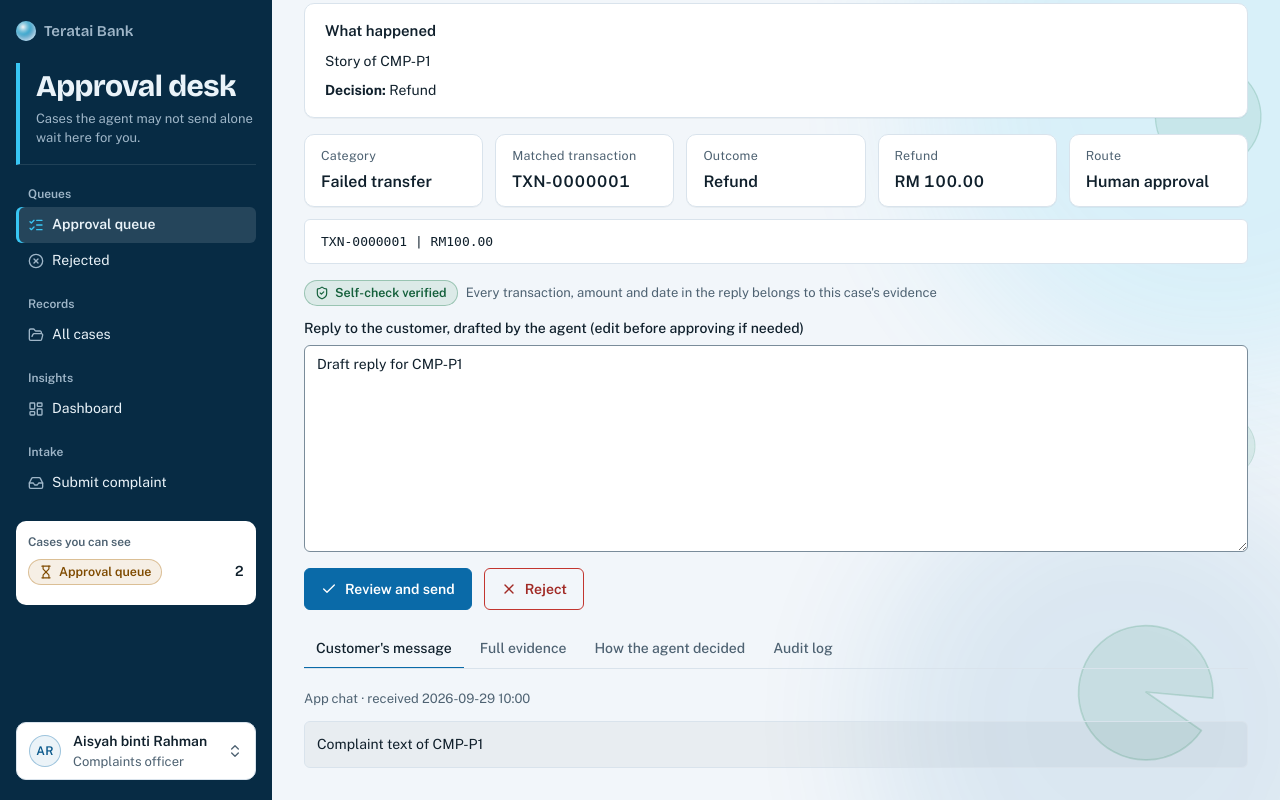
Test: approval queue › says the reply is edited instead of showing the draft's self-check
The image size is (1280, 800).
(page scrolled)
Expected: the text "Self-check verified" is shown, [304,280,458,306]
Type " Edited." into the text box labelled "Reply to the customer" at coordinates (776, 448), box [304,345,1248,552]
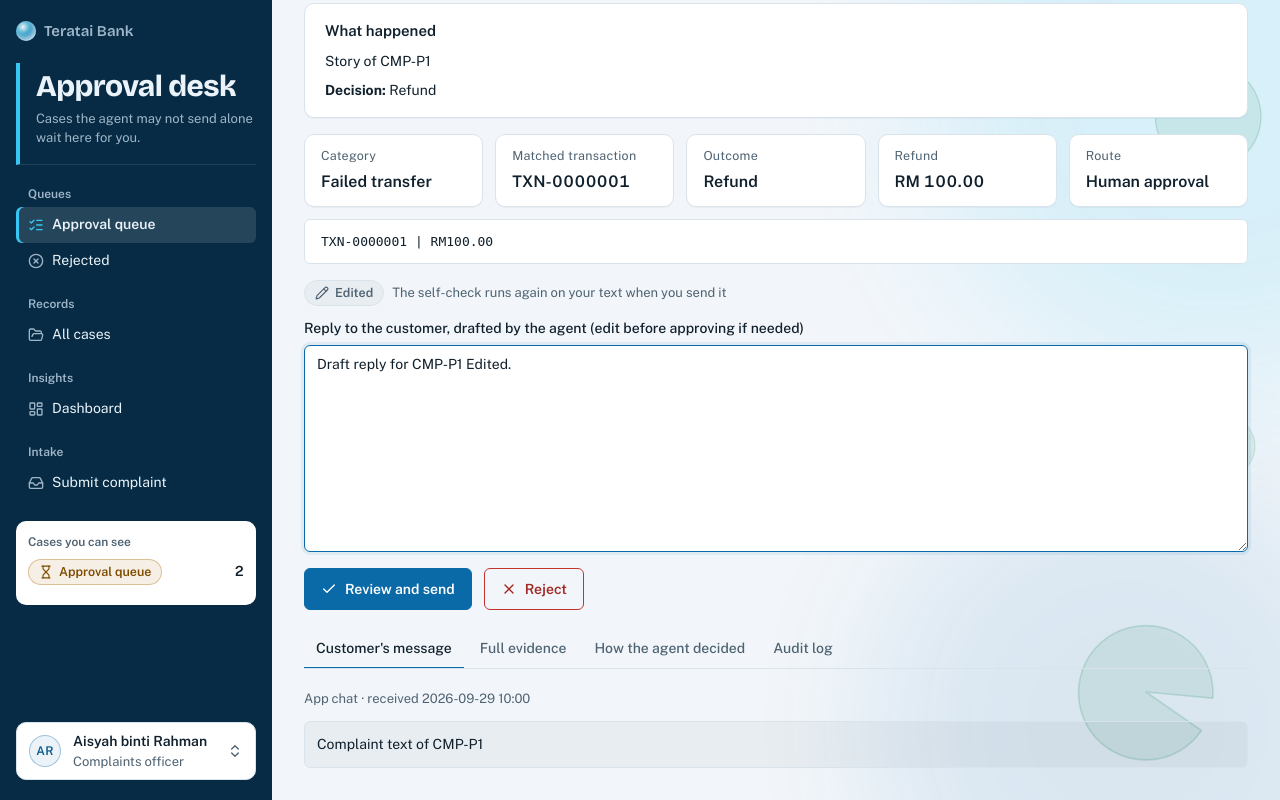
Expected: the text "Self-check verified" is gone
Expected: the text "The self-check runs again on your text when you send it" is shown, [392,283,727,303]
